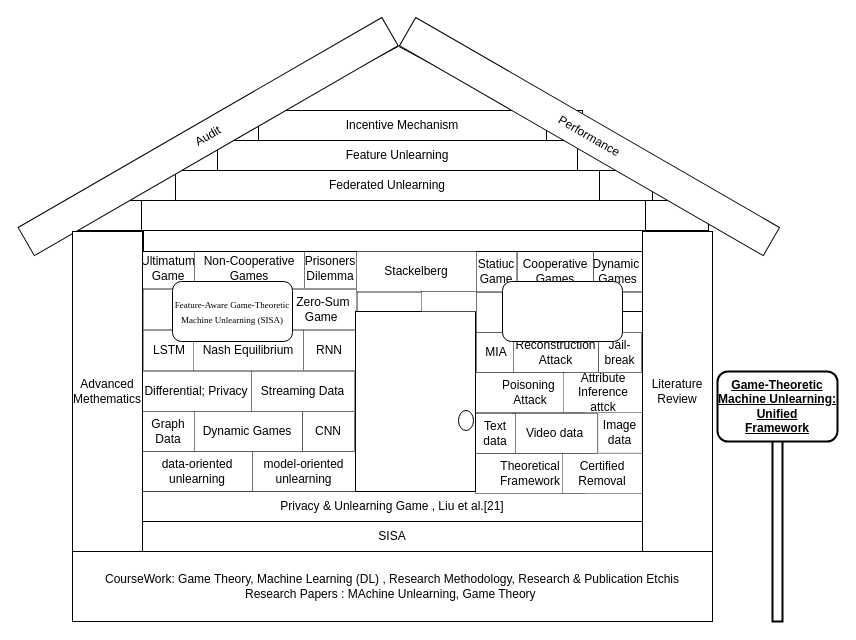
The diagram is 856 pixels wide and 640 high, and some of its shapes have lost their labels. The box of each missing label's shape, as (x1, y1, x2, y2) in pixels:
Cournot: (357, 292, 422, 312)
Game-Theoretic Machine Unlearning : Beyond Membership Inference: (502, 280, 622, 342)
LLM Unlearning: (78, 200, 708, 230)
Machine Unlearnign: (275, 45, 521, 112)
Perfect Game: (421, 291, 476, 311)
Responsible AI : Privacy, Security, Transparency, Fairness: (142, 230, 642, 252)
